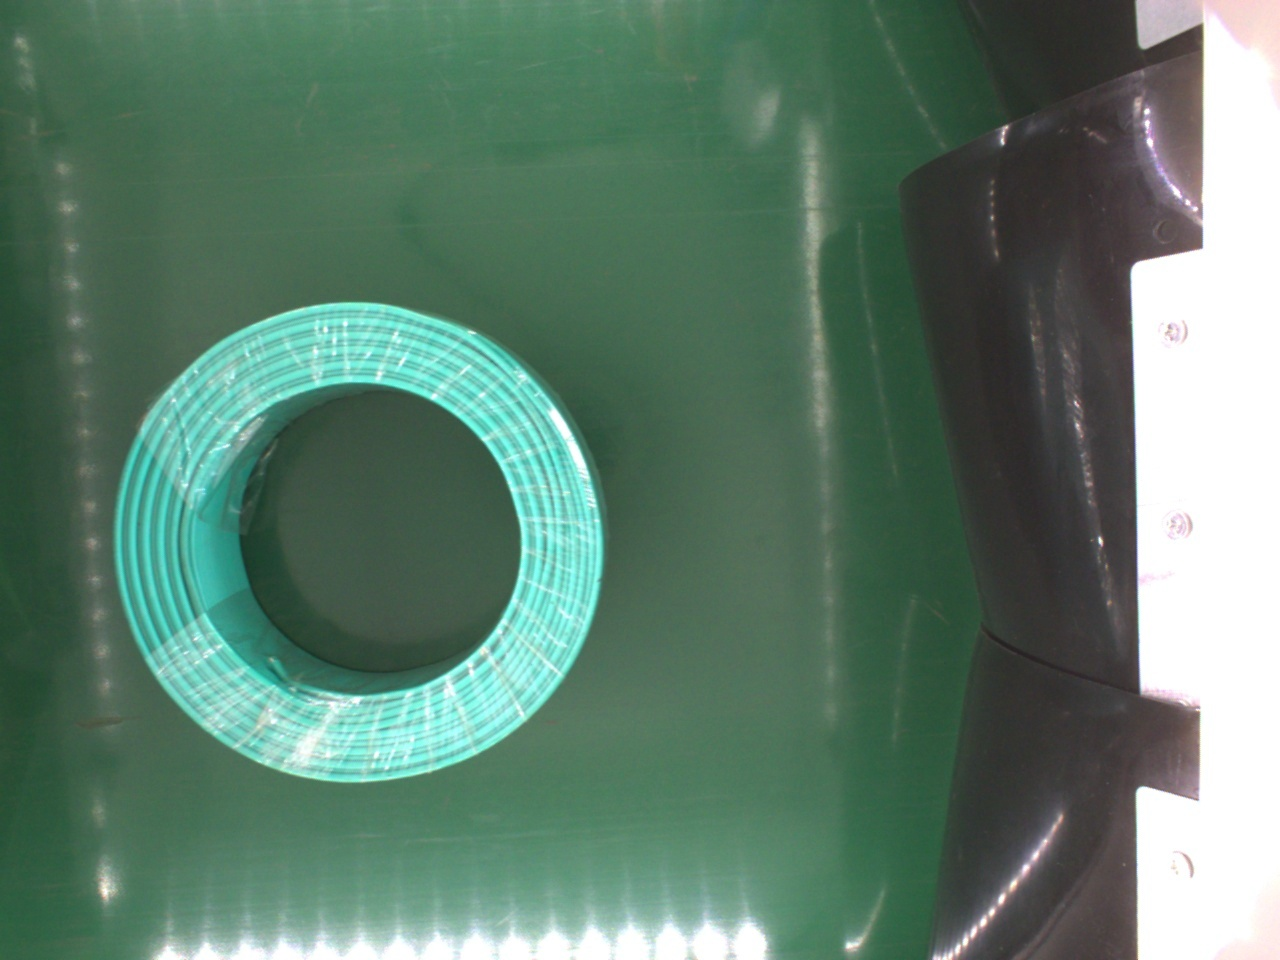green: (106, 298, 607, 783)
